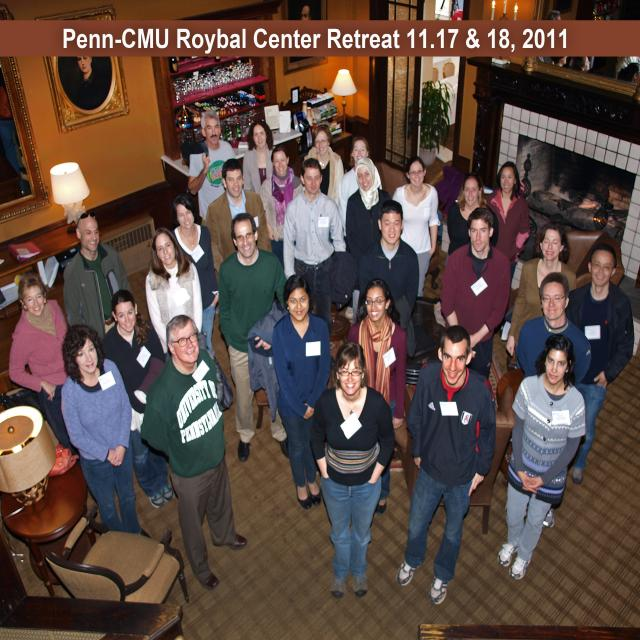body: (136, 312, 250, 594), (395, 319, 497, 608), (495, 332, 587, 585), (309, 338, 397, 599), (60, 322, 151, 540), (516, 272, 592, 528), (563, 241, 636, 486), (218, 213, 288, 462), (99, 287, 177, 509), (145, 227, 234, 412), (280, 156, 360, 357), (344, 278, 408, 516), (270, 270, 332, 510), (8, 274, 82, 467), (204, 158, 272, 366), (439, 206, 513, 382), (505, 219, 578, 372), (357, 198, 420, 362), (532, 0, 640, 87), (62, 211, 132, 342), (169, 191, 220, 364), (482, 160, 532, 335), (391, 155, 441, 298), (188, 109, 239, 226), (258, 144, 304, 272), (344, 156, 393, 266), (338, 136, 384, 252), (444, 172, 500, 266), (300, 123, 344, 208), (1, 62, 29, 192), (59, 52, 115, 115), (242, 119, 277, 194), (288, 1, 326, 22)
